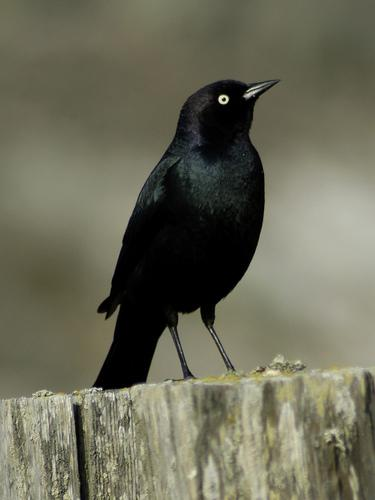009.Brewer_Blackbird: (91, 79, 285, 392)
